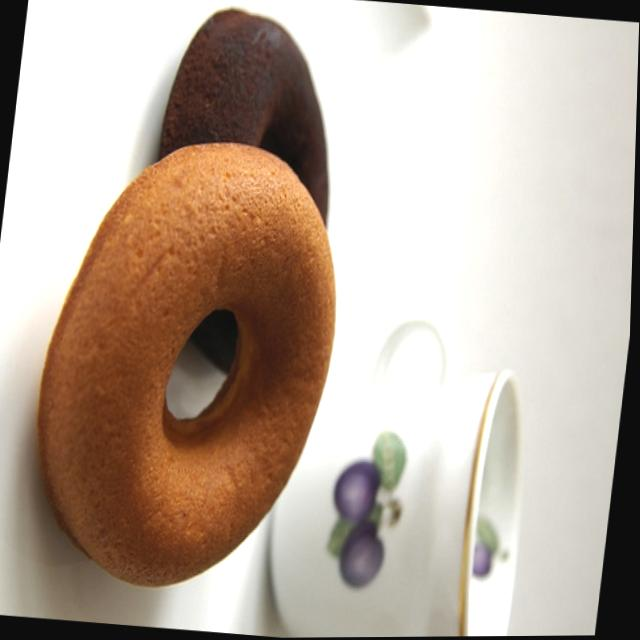炸货点心: (0, 0, 436, 611)
